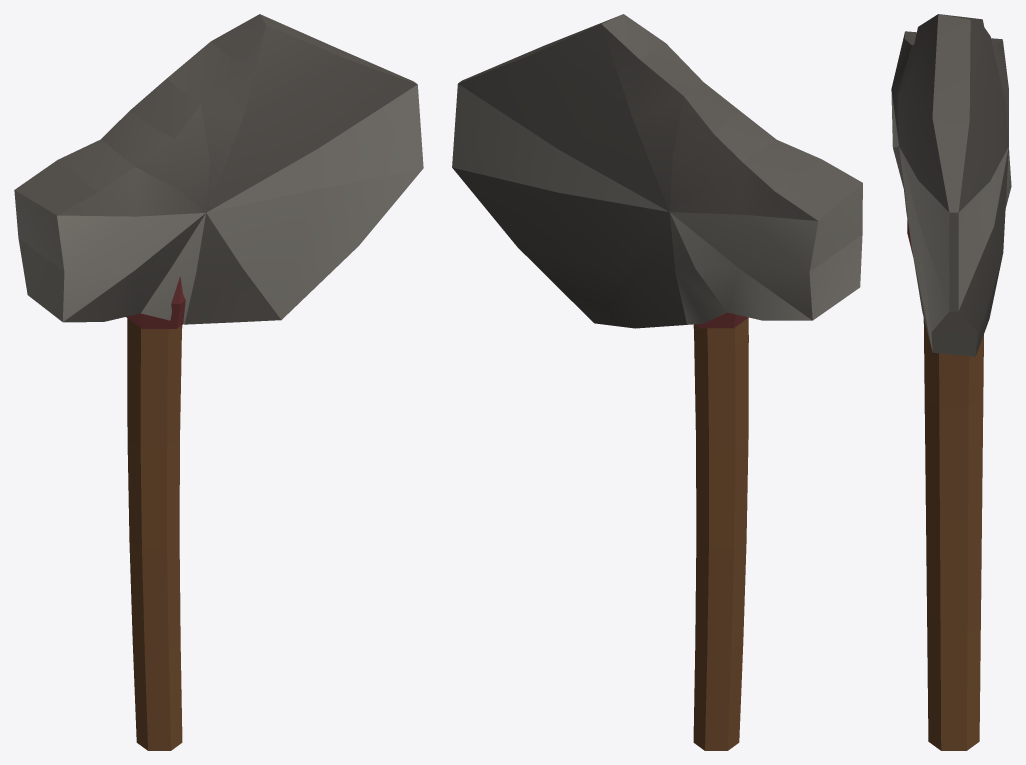
The model's file is wpn_axe_01.fbx.
3 views of the same model, side by side, from view 1: azimuth 30°, elevation 25°; view 2: azimuth 150°, elevation 25°; view 3: azimuth 270°, elevation 25° (orthographic). The views are drawn at different scales.
Visible parts, largest first — view 1: wpn_axe_01; view 2: wpn_axe_01; view 3: wpn_axe_01.
Part boxes in pixels (x1,y1,x2,y2): wpn_axe_01: [14, 14, 423, 750]; wpn_axe_01: [452, 14, 862, 750]; wpn_axe_01: [891, 14, 1011, 750].
Size of the model in its own units: 0.6638 by 0.1595 by 1.15.
1 material, 1 textured.
